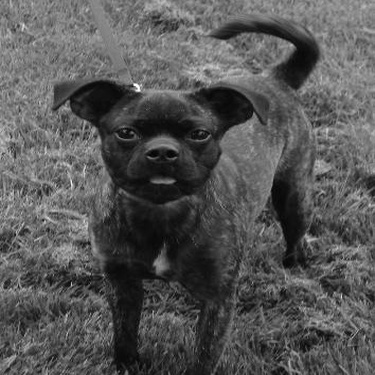dog: (43, 1, 330, 372)
